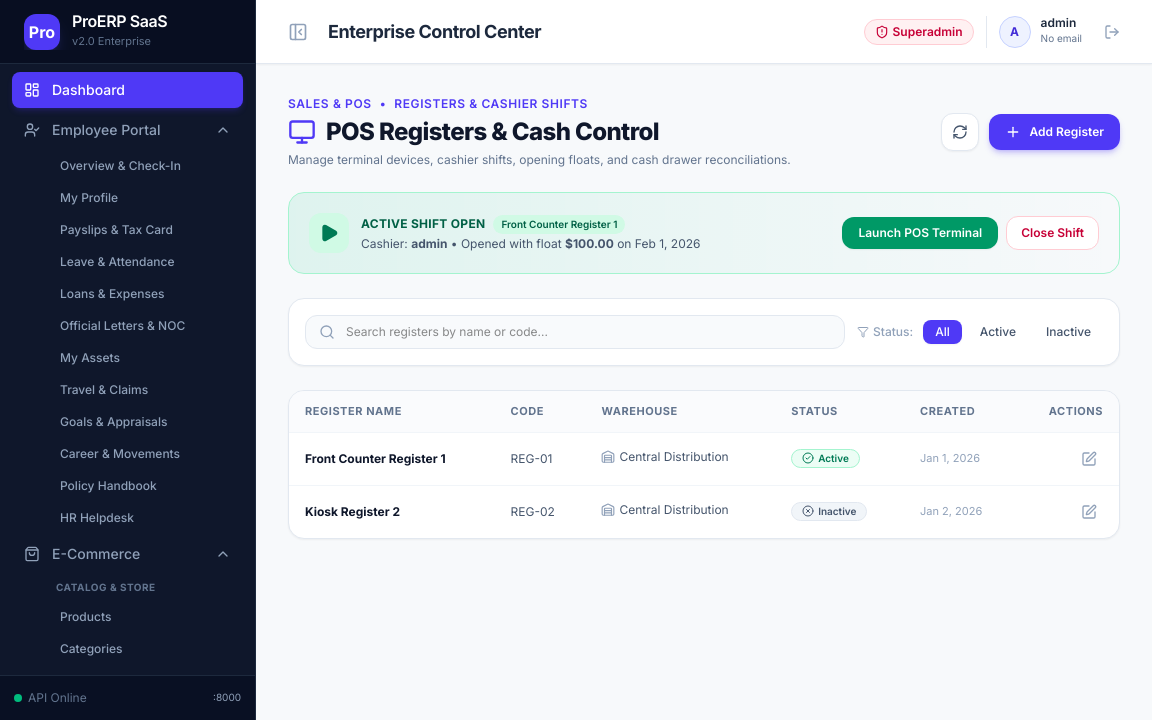
Test case: Ecommerce POS Terminal & Registers In-Place Audit › renders POS registers list with in-place search
The image size is (1152, 720).
Expected: the text "Kiosk Register 2" is shown, [305,504,400,518]
Expected: the text "REG-01" is shown, [495,432,586,485]
In the field with placeholder "Search registers by name or code...": (575, 332) [305,315,845,349], type "Counter"
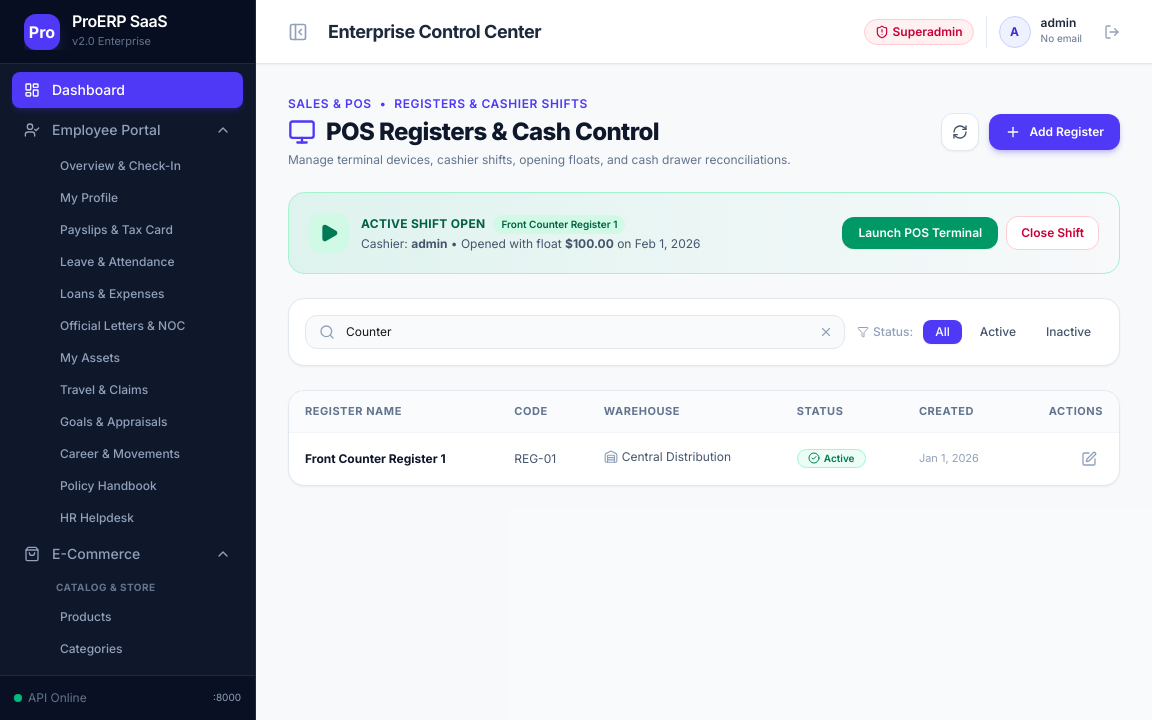
Now the text "Kiosk Register 2" is gone
